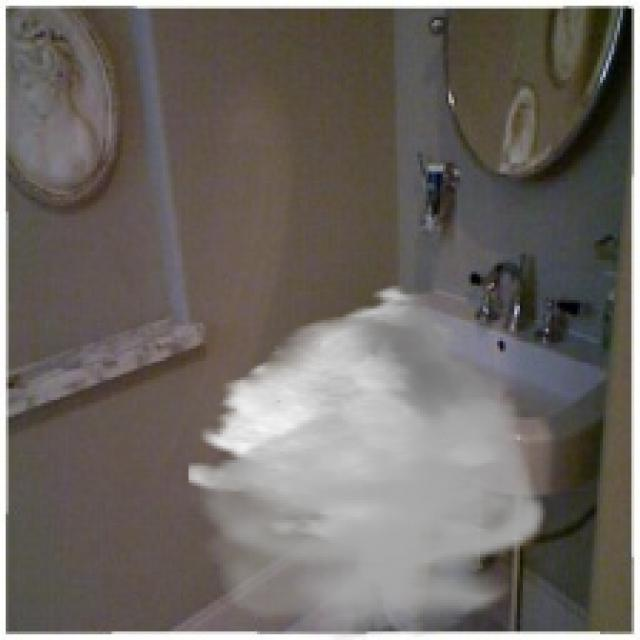smoke: (189, 283, 554, 637)
